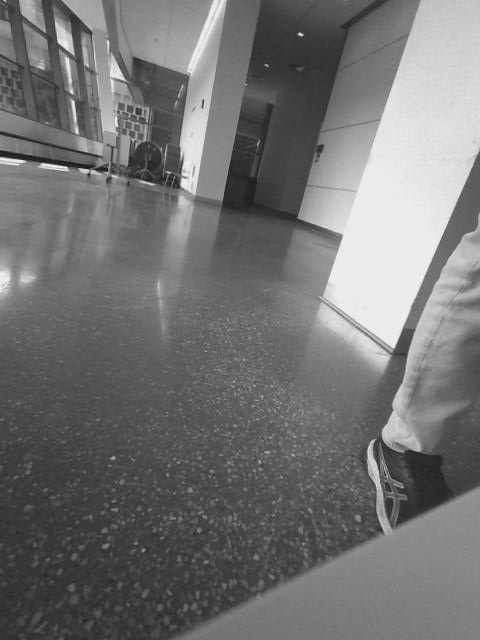ball: (293, 295, 374, 368)
